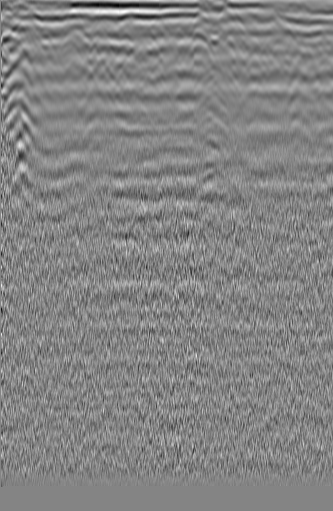가스: (191, 156, 228, 188)
상수: (289, 44, 322, 85)
오수: (4, 42, 38, 76)
우수: (132, 21, 168, 54)
